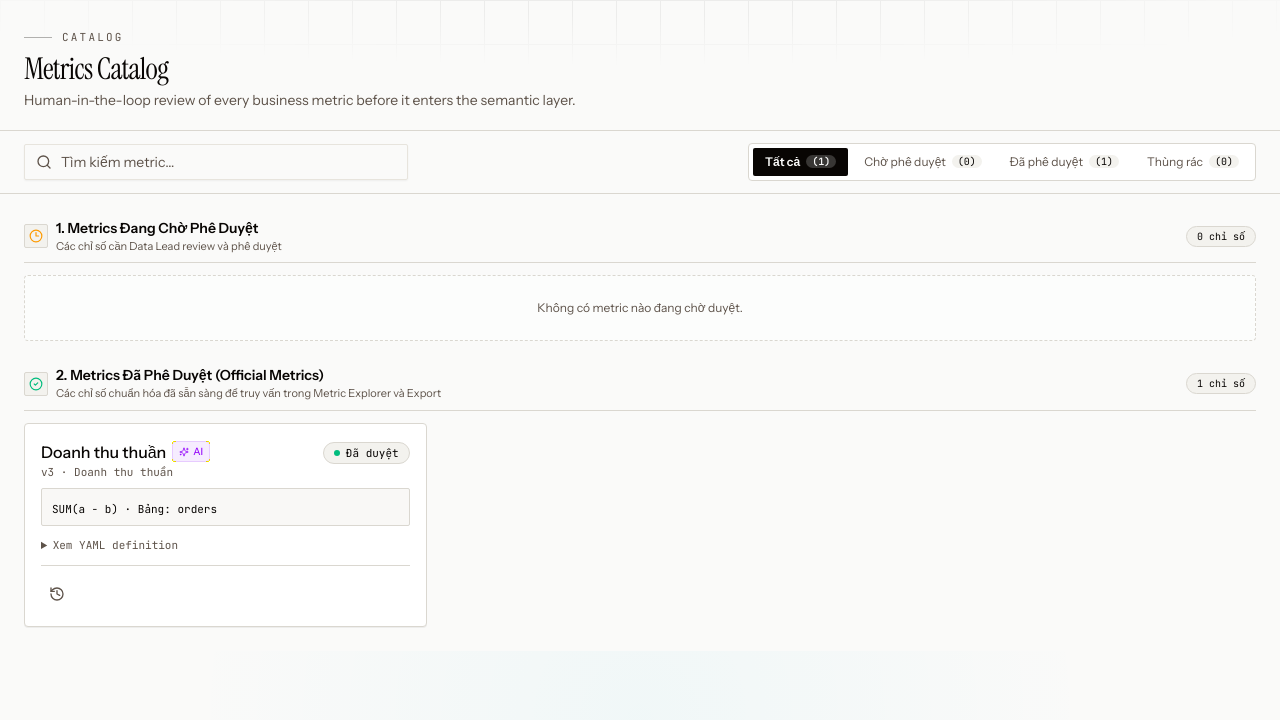
Scenario: MetricsCatalogView history modal › defaults selectors to the latest two versions and renders the colored diff
What coordinates should you click on to do the following:
click the button titled "Xem lịch sử phiên bản"
I would click on:
 (57, 594)
Its box is [41,578,73,610].
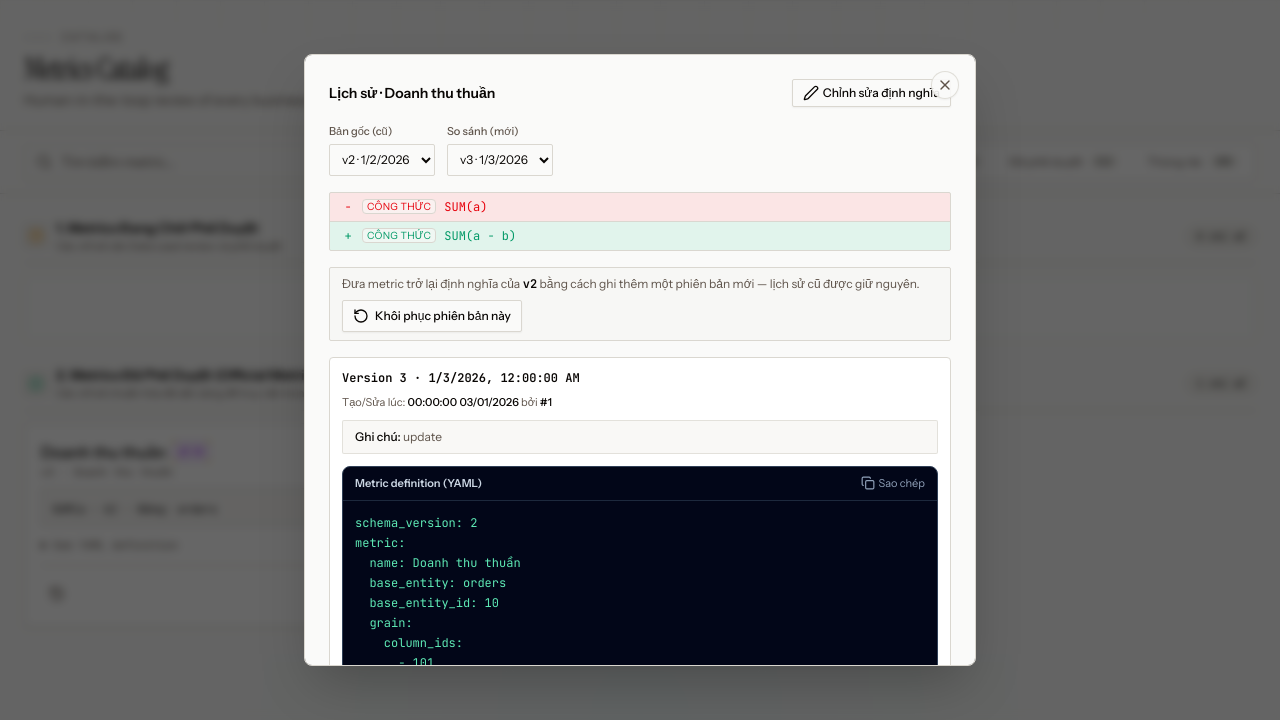
Check: the dialog is shown, box [304,54,976,666]
Check: the dropdown labelled "Bản gốc (cũ)" shows "v2 · 1/2/2026", box [329,144,435,176]
Check: the dropdown labelled "So sánh (mới)" shows "v3 · 1/3/2026", box [447,144,553,176]
